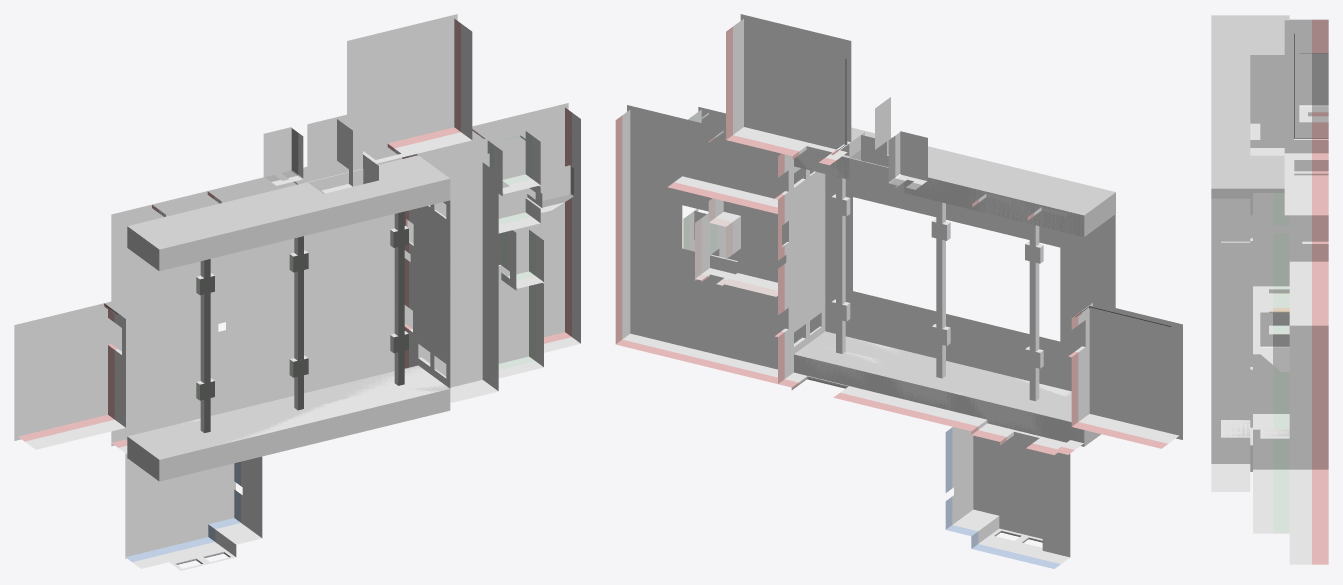
Rendered from warehouse_interior.glb.
3 views of the same model, side by side, from view 1: azimuth 30°, elevation 25°; view 2: azimuth 150°, elevation 25°; view 3: azimuth 270°, elevation 25° (orthographic). The views are drawn at different scales.
Visible parts, largest first — view 1: g_int_ground, g_int_vault_room_01, g_int_vault_room_02, c_wareint_001, g_int_front_room, c_wareint_002, c_wareint_003, c_wareint_004, g_int_security_room_02, g_int_security_room_01; view 2: g_int_ground, g_int_vault_room_01, g_int_front_room, g_int_vault_room_02, c_wareint_001, c_wareint_002, g_int_security_room_02; view 3: g_int_ground, c_wareint_002, g_int_vault_room_01, c_wareint_003, g_int_security_room_02, g_int_security_room_01, c_wareint_004, c_wareint_001, g_int_vault_room_02.
Boxes of the visible parts, <box> form: g_int_ground: <box>111,103,580,459</box>; g_int_vault_room_01: <box>347,14,472,163</box>; g_int_vault_room_02: <box>14,301,125,449</box>; c_wareint_001: <box>127,365,450,481</box>; g_int_front_room: <box>125,453,262,570</box>; c_wareint_002: <box>127,182,339,271</box>; c_wareint_003: <box>378,155,450,213</box>; c_wareint_004: <box>324,180,394,227</box>; g_int_security_room_02: <box>263,127,303,185</box>; g_int_security_room_01: <box>529,165,573,212</box>; g_int_ground: <box>615,97,1115,455</box>; g_int_vault_room_01: <box>726,14,851,165</box>; g_int_front_room: <box>945,427,1070,568</box>; g_int_vault_room_02: <box>1068,301,1182,448</box>; c_wareint_001: <box>794,331,1101,446</box>; c_wareint_002: <box>904,148,1115,236</box>; g_int_security_room_02: <box>888,131,927,189</box>; g_int_ground: <box>1211,19,1328,564</box>; c_wareint_002: <box>1211,15,1289,122</box>; g_int_vault_room_01: <box>1284,20,1328,215</box>; c_wareint_003: <box>1211,155,1284,215</box>; g_int_security_room_02: <box>1299,53,1328,122</box>; g_int_security_room_01: <box>1260,312,1289,371</box>; c_wareint_004: <box>1211,122,1250,155</box>; c_wareint_001: <box>1226,420,1289,471</box>; g_int_vault_room_02: <box>1294,164,1328,173</box>.
Bounding box in the file's own units: 80 × 64 × 12.
